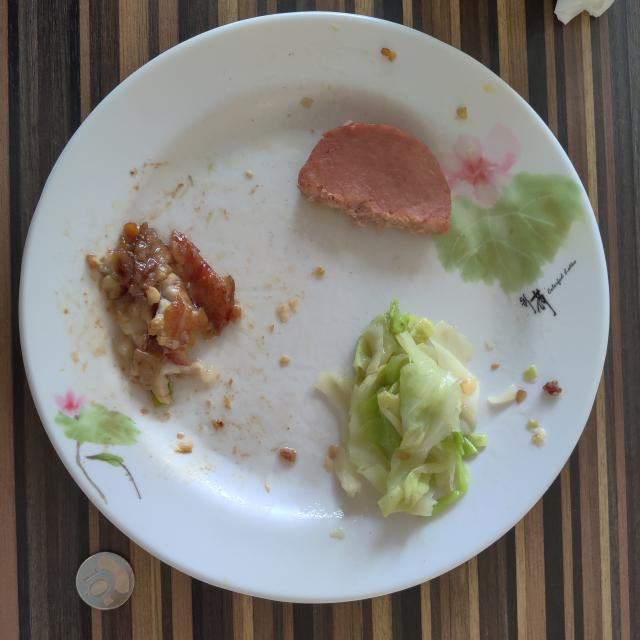Kabayaki sea bream fillet: (86, 222, 241, 404)
Spam: (299, 121, 451, 235)
cabbage: (315, 300, 486, 516)
coin: (76, 551, 135, 610)
